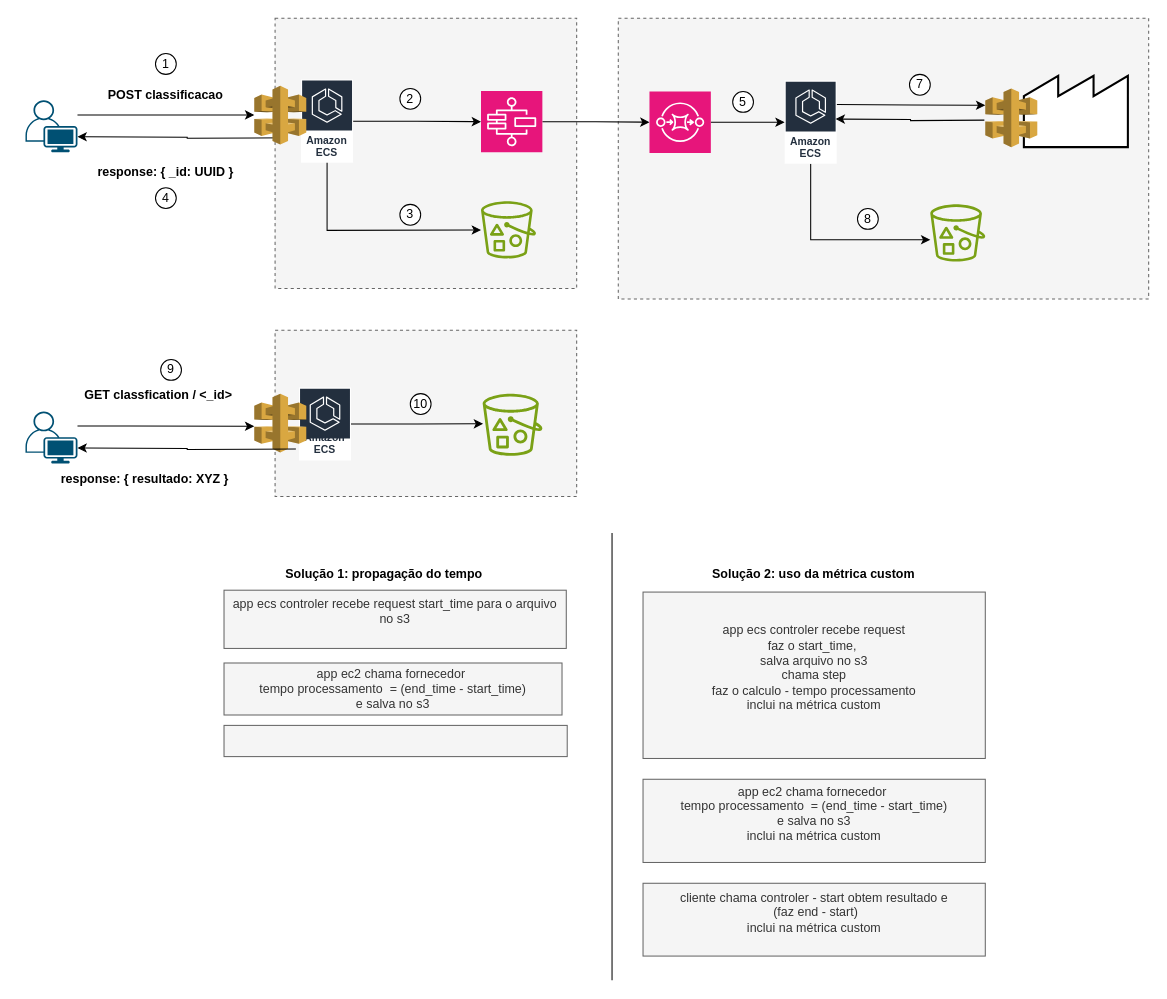
This 1167x999 diagram has some shape labels left out. Here are the shapes that lost their labels. From the top down, the centre of each, then its label:
point 511,121: stepfunctions
point 679,121: sqs
point 1075,110: XYZ Corp
point 395,740: cliente chama controler - start obtem resultado e (faz end - start)
